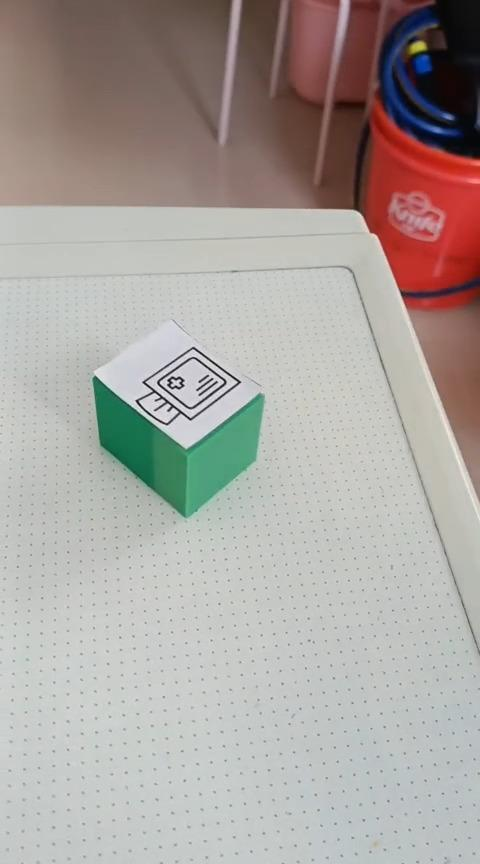Gauze: (91, 317, 265, 518)
